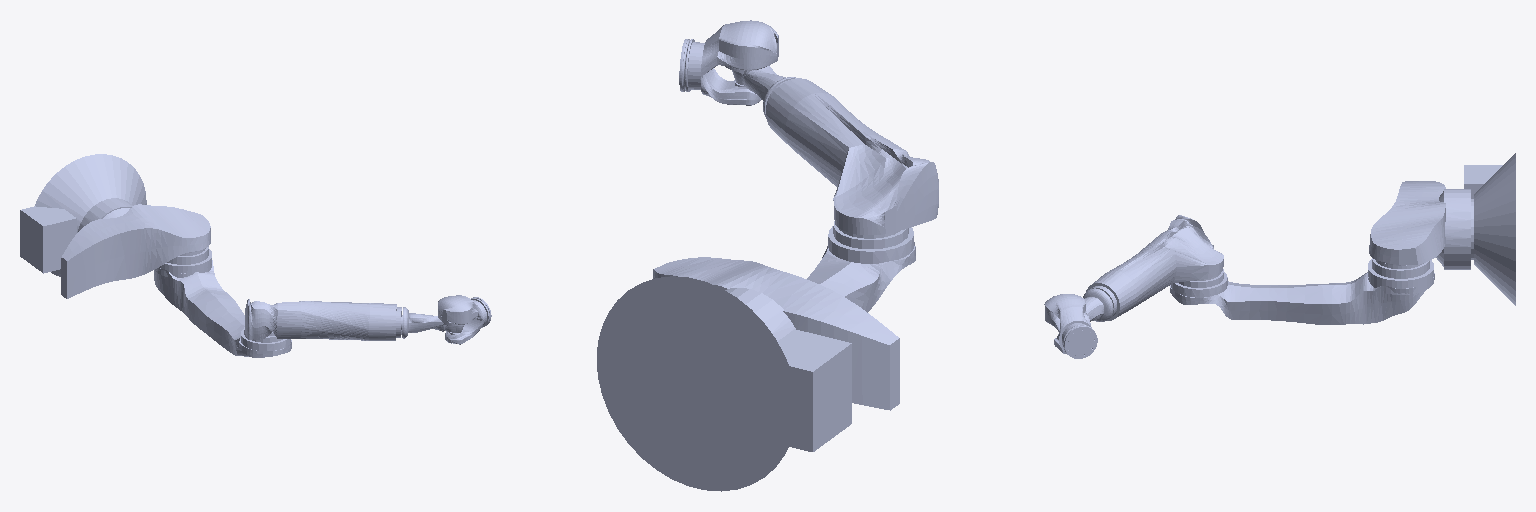
robot.urdf — moveit_quantec:
<?xml version="1.0" encoding="utf-8"?>
<!-- This URDF was automatically created by SolidWorks to URDF Exporter! Originally created by [author] ([email redacted]) 
     Commit Version: 1.6.0-4-g7f85cfe  Build Version: 1.6.7995.38578
     For more information, please see http://wiki.ros.org/sw_urdf_exporter -->
<robot
  name="moveit_quantec">
  <link
    name="base_link">
    <inertial>
      <origin
        xyz="-0.0810107614623872 1.69806255825153E-07 0.10599645436339"
        rpy="0 0 0" />
      <mass
        value="97.9298238151877" />
      <inertia
        ixx="3.12727259199142"
        ixy="2.14569120944394E-06"
        ixz="0.467210023955441"
        iyy="5.52628001885015"
        iyz="-1.97817775090254E-06"
        izz="7.58545932293491" />
    </inertial>
    <visual>
      <origin
        xyz="0 0 0"
        rpy="0 0 0" />
      <geometry>
        <mesh
          filename="package://moveit_quantec/meshes/base_link.STL" />
      </geometry>
      <material
        name="">
        <color
          rgba="0.792156862745098 0.819607843137255 0.933333333333333 1" />
      </material>
    </visual>
    <collision>
      <origin
        xyz="0 0 0"
        rpy="0 0 0" />
      <geometry>
        <mesh
          filename="package://moveit_quantec/meshes/base_link.STL" />
      </geometry>
    </collision>
  </link>
  <link
    name="link_1">
    <inertial>
      <origin
        xyz="-0.0084665 0.019734 0.25939"
        rpy="0 0 0" />
      <mass
        value="94.945" />
      <inertia
        ixx="2.6472"
        ixy="-0.62895"
        ixz="-0.35979"
        iyy="6.3022"
        iyz="-0.17581"
        izz="5.5156" />
    </inertial>
    <visual>
      <origin
        xyz="0 0 0"
        rpy="0 0 0" />
      <geometry>
        <mesh
          filename="package://moveit_quantec/meshes/link_1.STL" />
      </geometry>
      <material
        name="">
        <color
          rgba="0.79216 0.81961 0.93333 1" />
      </material>
    </visual>
    <collision>
      <origin
        xyz="0 0 0"
        rpy="0 0 0" />
      <geometry>
        <mesh
          filename="package://moveit_quantec/meshes/link_1.STL" />
      </geometry>
    </collision>
  </link>
  <joint
    name="joint_1"
    type="continuous">
    <origin
      xyz="0 -0.235 0"
      rpy="1.5708 0.014047 0" />
    <parent
      link="base_link" />
    <child
      link="link_1" />
    <axis
      xyz="0 0 1" />
  </joint>
  <link
    name="link_2">
    <inertial>
      <origin
        xyz="0.0015545 -0.23159 0.40897"
        rpy="0 0 0" />
      <mass
        value="82.176" />
      <inertia
        ixx="12.398"
        ixy="-9.2862E-05"
        ixz="0.082654"
        iyy="12.541"
        iyz="0.043185"
        izz="0.91874" />
    </inertial>
    <visual>
      <origin
        xyz="0 0 0"
        rpy="0 0 0" />
      <geometry>
        <mesh
          filename="package://moveit_quantec/meshes/link_2.STL" />
      </geometry>
      <material
        name="">
        <color
          rgba="0.79216 0.81961 0.93333 1" />
      </material>
    </visual>
    <collision>
      <origin
        xyz="0 0 0"
        rpy="0 0 0" />
      <geometry>
        <mesh
          filename="package://moveit_quantec/meshes/link_2.STL" />
      </geometry>
    </collision>
  </link>
  <joint
    name="joint_2"
    type="continuous">
    <origin
      xyz="0.33 0 0.41772"
      rpy="0 -0.0391 0" />
    <parent
      link="link_1" />
    <child
      link="link_2" />
    <axis
      xyz="0 1 0" />
  </joint>
  <link
    name="link_3">
    <inertial>
      <origin
        xyz="0.35711 -0.015416 0.10193"
        rpy="0 0 0" />
      <mass
        value="47.124" />
      <inertia
        ixx="0.41866"
        ixy="-0.086691"
        ixz="-0.15996"
        iyy="3.9994"
        iyz="-0.042155"
        izz="3.9284" />
    </inertial>
    <visual>
      <origin
        xyz="0 0 0"
        rpy="0 0 0" />
      <geometry>
        <mesh
          filename="package://moveit_quantec/meshes/link_3.STL" />
      </geometry>
      <material
        name="">
        <color
          rgba="0.79216 0.81961 0.93333 1" />
      </material>
    </visual>
    <collision>
      <origin
        xyz="0 0 0"
        rpy="0 0 0" />
      <geometry>
        <mesh
          filename="package://moveit_quantec/meshes/link_3.STL" />
      </geometry>
    </collision>
  </link>
  <joint
    name="joint_3"
    type="continuous">
    <origin
      xyz="0 0 1.15"
      rpy="0 -0.52738 0" />
    <parent
      link="link_2" />
    <child
      link="link_3" />
    <axis
      xyz="0 1 0" />
  </joint>
  <link
    name="link_4">
    <inertial>
      <origin
        xyz="0.27937 0.0063685 -0.00017456"
        rpy="0 0 0" />
      <mass
        value="4.6744" />
      <inertia
        ixx="0.011503"
        ixy="-0.0037737"
        ixz="7.4652E-05"
        iyy="0.085293"
        iyz="-0.00012925"
        izz="0.085285" />
    </inertial>
    <visual>
      <origin
        xyz="0 0 0"
        rpy="0 0 0" />
      <geometry>
        <mesh
          filename="package://moveit_quantec/meshes/link_4.STL" />
      </geometry>
      <material
        name="">
        <color
          rgba="0.79216 0.81961 0.93333 1" />
      </material>
    </visual>
    <collision>
      <origin
        xyz="0 0 0"
        rpy="0 0 0" />
      <geometry>
        <mesh
          filename="package://moveit_quantec/meshes/link_4.STL" />
      </geometry>
    </collision>
  </link>
  <joint
    name="joint_4"
    type="continuous">
    <origin
      xyz="0.78147 -0.0086752 0.115"
      rpy="0.037095 0 0" />
    <parent
      link="link_3" />
    <child
      link="link_4" />
    <axis
      xyz="1 0 0" />
  </joint>
  <link
    name="link_5">
    <inertial>
      <origin
        xyz="0.046286 0.05529 7.0521E-05"
        rpy="0 0 0" />
      <mass
        value="8.3467" />
      <inertia
        ixx="0.035209"
        ixy="0.0040294"
        ixz="-2.9627E-05"
        iyy="0.059372"
        iyz="-0.00013764"
        izz="0.046632" />
    </inertial>
    <visual>
      <origin
        xyz="0 0 0"
        rpy="0 0 0" />
      <geometry>
        <mesh
          filename="package://moveit_quantec/meshes/link_5.STL" />
      </geometry>
      <material
        name="">
        <color
          rgba="0.79216 0.81961 0.93333 1" />
      </material>
    </visual>
    <collision>
      <origin
        xyz="0 0 0"
        rpy="0 0 0" />
      <geometry>
        <mesh
          filename="package://moveit_quantec/meshes/link_5.STL" />
      </geometry>
    </collision>
  </link>
  <joint
    name="joint_5"
    type="continuous">
    <origin
      xyz="0.44853 0 0"
      rpy="0 0.9269 0" />
    <parent
      link="link_4" />
    <child
      link="link_5" />
    <axis
      xyz="0 1 0" />
  </joint>
  <link
    name="link_6">
    <inertial>
      <origin
        xyz="0.021186 9.6657E-07 -3.3846E-07"
        rpy="0 0 0" />
      <mass
        value="0.97276" />
      <inertia
        ixx="0.0044336"
        ixy="-1.5389E-09"
        ixz="6.5721E-10"
        iyy="0.0023152"
        iyz="-1.9424E-09"
        izz="0.0023149" />
    </inertial>
    <visual>
      <origin
        xyz="0 0 0"
        rpy="0 0 0" />
      <geometry>
        <mesh
          filename="package://moveit_quantec/meshes/link_6.STL" />
      </geometry>
      <material
        name="">
        <color
          rgba="0.79216 0.81961 0.93333 1" />
      </material>
    </visual>
    <collision>
      <origin
        xyz="0 0 0"
        rpy="0 0 0" />
      <geometry>
        <mesh
          filename="package://moveit_quantec/meshes/link_6.STL" />
      </geometry>
    </collision>
  </link>
  <joint
    name="joint_6"
    type="continuous">
    <origin
      xyz="0.20228 1.3733E-05 0"
      rpy="-2.218 0 0" />
    <parent
      link="link_5" />
    <child
      link="link_6" />
    <axis
      xyz="1 0 0" />
  </joint>
</robot>

--- Facts derived from the render (not from the file) ---
Views: 3 orthographic renders of the robot side by side, from view 1: azimuth 30°, elevation 25°; view 2: azimuth 150°, elevation 25°; view 3: azimuth 270°, elevation 25°.
Robot: moveit_quantec — 7 links, 6 joints (6 continuous); root link base_link; default pose: every joint at zero.
Visible links, largest first — view 1: link_1, base_link, link_2, link_3, link_5, link_4; view 2: base_link, link_3, link_1, link_2, link_5, link_4; view 3: link_2, link_1, link_3, base_link, link_5, link_6, link_4.
Boxes of the visible links, left/top/right/bottom form: link_1: left=61, top=198, right=210, bottom=298; base_link: left=20, top=154, right=146, bottom=276; link_2: left=154, top=247, right=291, bottom=357; link_3: left=245, top=299, right=401, bottom=340; link_5: left=438, top=295, right=486, bottom=344; link_4: left=401, top=307, right=463, bottom=338; base_link: left=597, top=276, right=851, bottom=491; link_3: left=766, top=78, right=938, bottom=234; link_1: left=653, top=257, right=899, bottom=410; link_2: left=807, top=221, right=915, bottom=312; link_5: left=688, top=20, right=778, bottom=105; link_4: left=726, top=65, right=796, bottom=116; link_2: left=1170, top=258, right=1434, bottom=324; link_1: left=1369, top=181, right=1473, bottom=269; link_3: left=1086, top=215, right=1223, bottom=320; base_link: left=1464, top=153, right=1515, bottom=305; link_5: left=1044, top=294, right=1091, bottom=354; link_6: left=1063, top=325, right=1097, bottom=358; link_4: left=1058, top=288, right=1113, bottom=331.
Size in the robot's own frame: 2.04 by 2.68 by 0.8673 metres.
Meshes: 7 distinct files referenced, 7 mesh visuals loaded (7 binary STL).